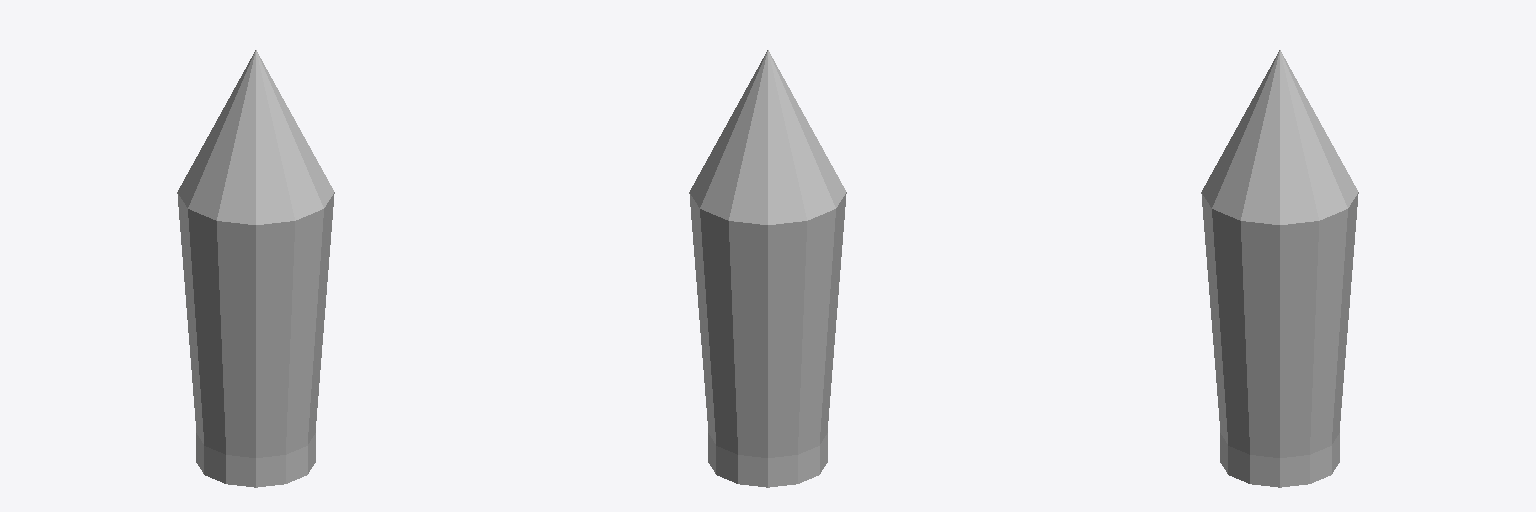
Rendered from Bullet.obj.
3 renders of one model, left to right at view 1: azimuth 30°, elevation 25°; view 2: azimuth 150°, elevation 25°; view 3: azimuth 270°, elevation 25°, orthographic.
Parts seen in each view (by area): view 1: Cone; view 2: Cone; view 3: Cone.
Part boxes in pixels (x1,y1,x2,y2): Cone: (177, 50, 334, 487); Cone: (689, 50, 846, 487); Cone: (1201, 50, 1358, 487).
Size of the model in its own units: 10.99 by 31.83 by 10.99.